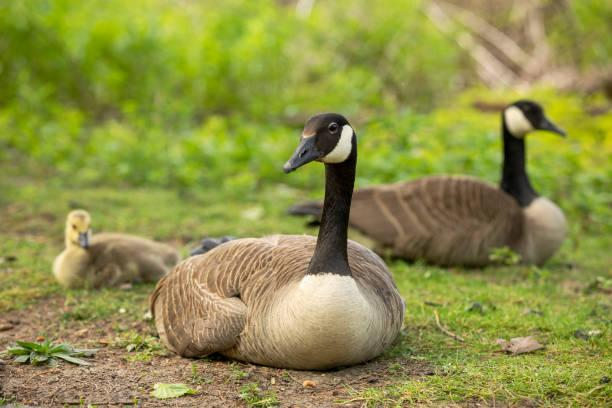Canadian-Goose: (143, 111, 407, 364), (353, 98, 573, 263), (51, 207, 178, 290)
